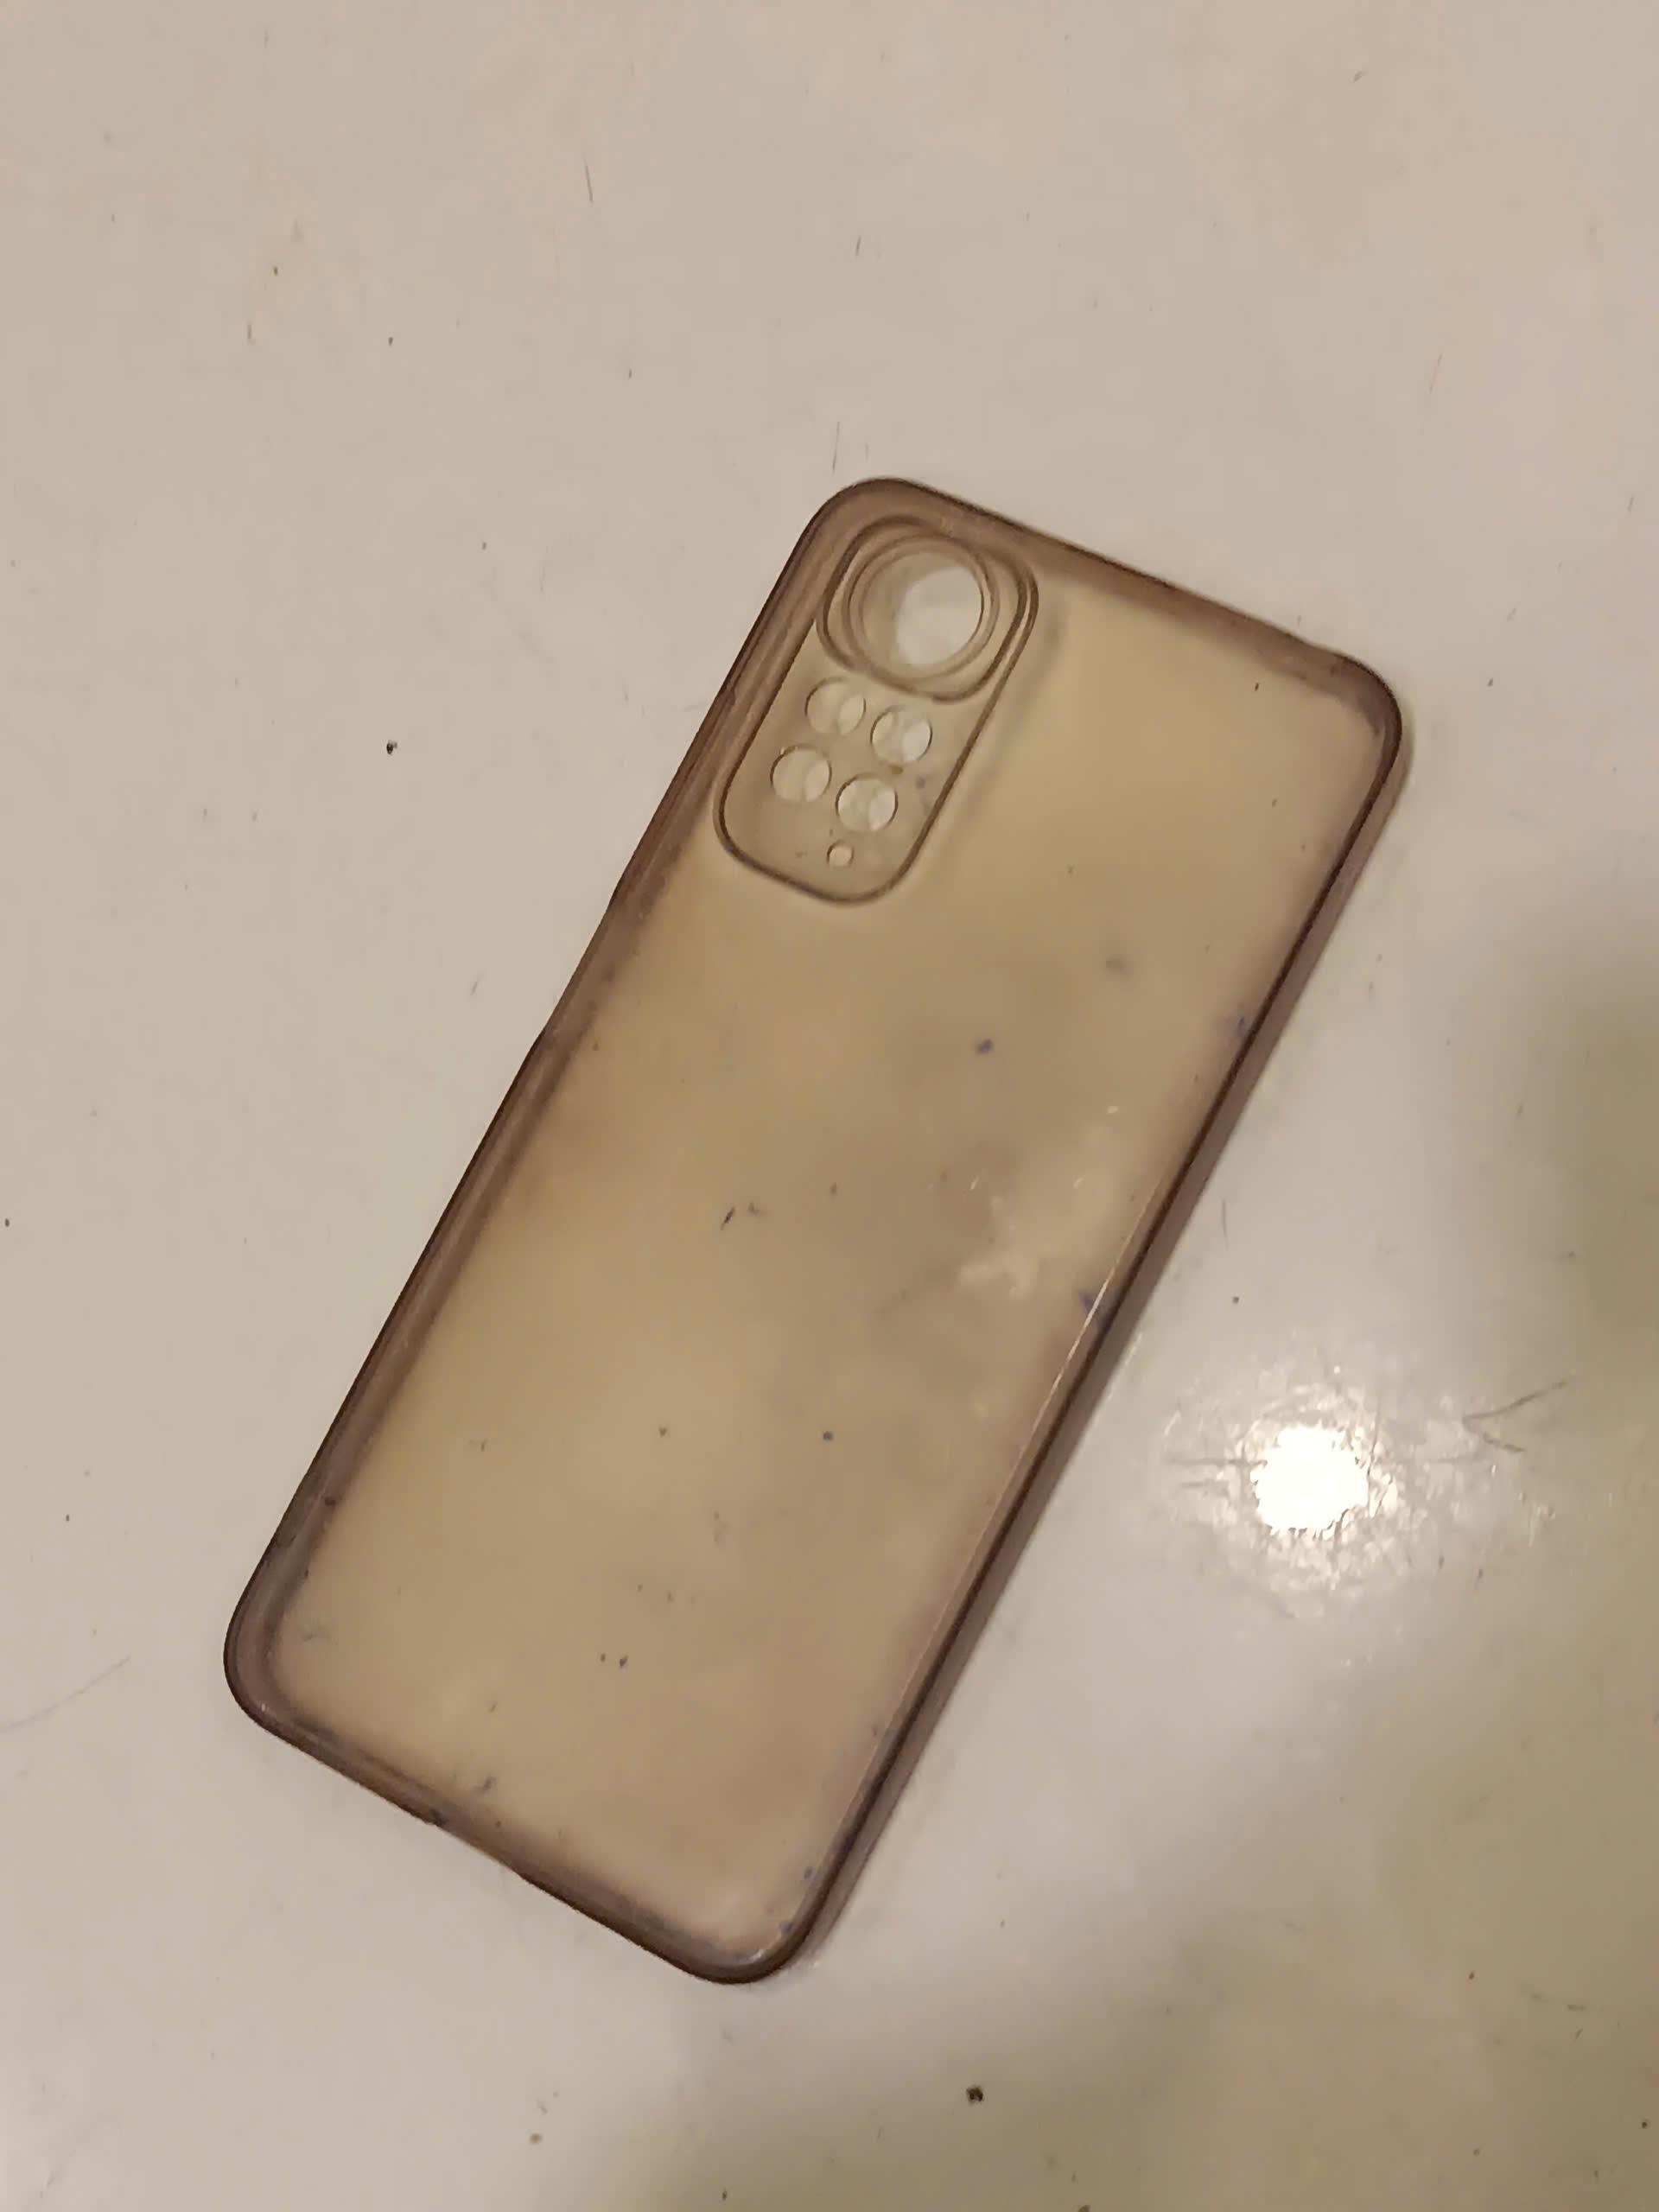Vo co: (228, 467, 1424, 1989)
